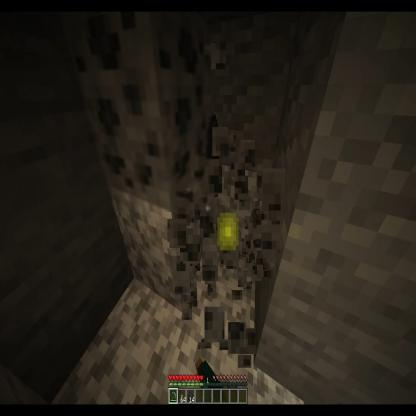coal ore: (73, 16, 211, 212)
